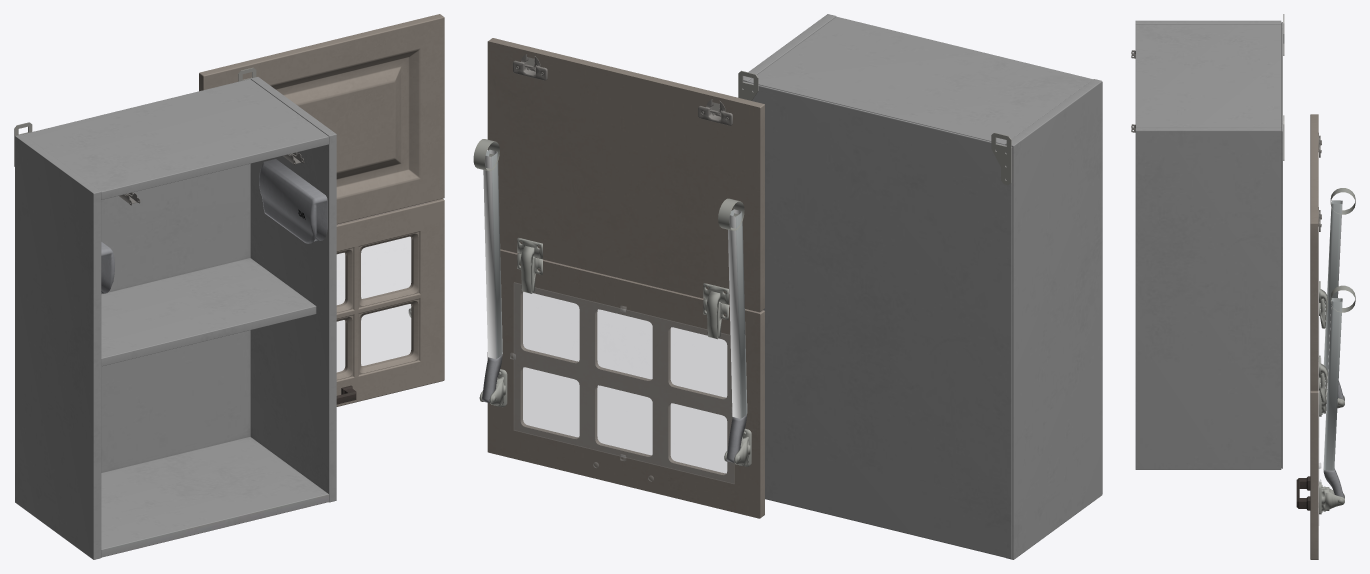
3 views of the same model, side by side, from view 1: azimuth 30°, elevation 25°; view 2: azimuth 150°, elevation 25°; view 3: azimuth 270°, elevation 25° (orthographic). The views are drawn at different scales.
Visible parts, largest first — view 1: VIFS274, Object_12, Object_8, Object_10, Plane001; view 2: VIFS274, Object_12, Object_8, Object_10, Object_16, Object_7, Object_13, Object_14; view 3: VIFS274, Object_16, Object_12, Object_8, Object_7, Object_9, Object_13.
Boxes of the visible parts, left/top/right/bottom form: VIFS274: left=14, top=67, right=336, bottom=559; Object_12: left=199, top=14, right=444, bottom=224; Object_8: left=336, top=198, right=444, bottom=406; Object_10: left=337, top=237, right=410, bottom=371; Plane001: left=101, top=159, right=327, bottom=293; VIFS274: left=738, top=14, right=1102, bottom=559; Object_12: left=487, top=38, right=764, bottom=312; Object_8: left=487, top=249, right=764, bottom=518; Object_10: left=510, top=282, right=734, bottom=483; Object_16: left=473, top=139, right=747, bottom=462; Object_7: left=479, top=253, right=751, bottom=466; Object_13: left=517, top=237, right=728, bottom=339; Object_14: left=513, top=54, right=732, bottom=125; VIFS274: left=1135, top=14, right=1284, bottom=469; Object_16: left=1323, top=188, right=1355, bottom=498; Object_12: left=1310, top=114, right=1318, bottom=390; Object_8: left=1310, top=390, right=1318, bottom=559; Object_7: left=1319, top=298, right=1344, bottom=514; Object_9: left=1296, top=476, right=1310, bottom=510; Object_13: left=1319, top=281, right=1327, bottom=402.
Bounding box in the file's own units: 916 × 737 × 431.
6 materials, 5 textured.
